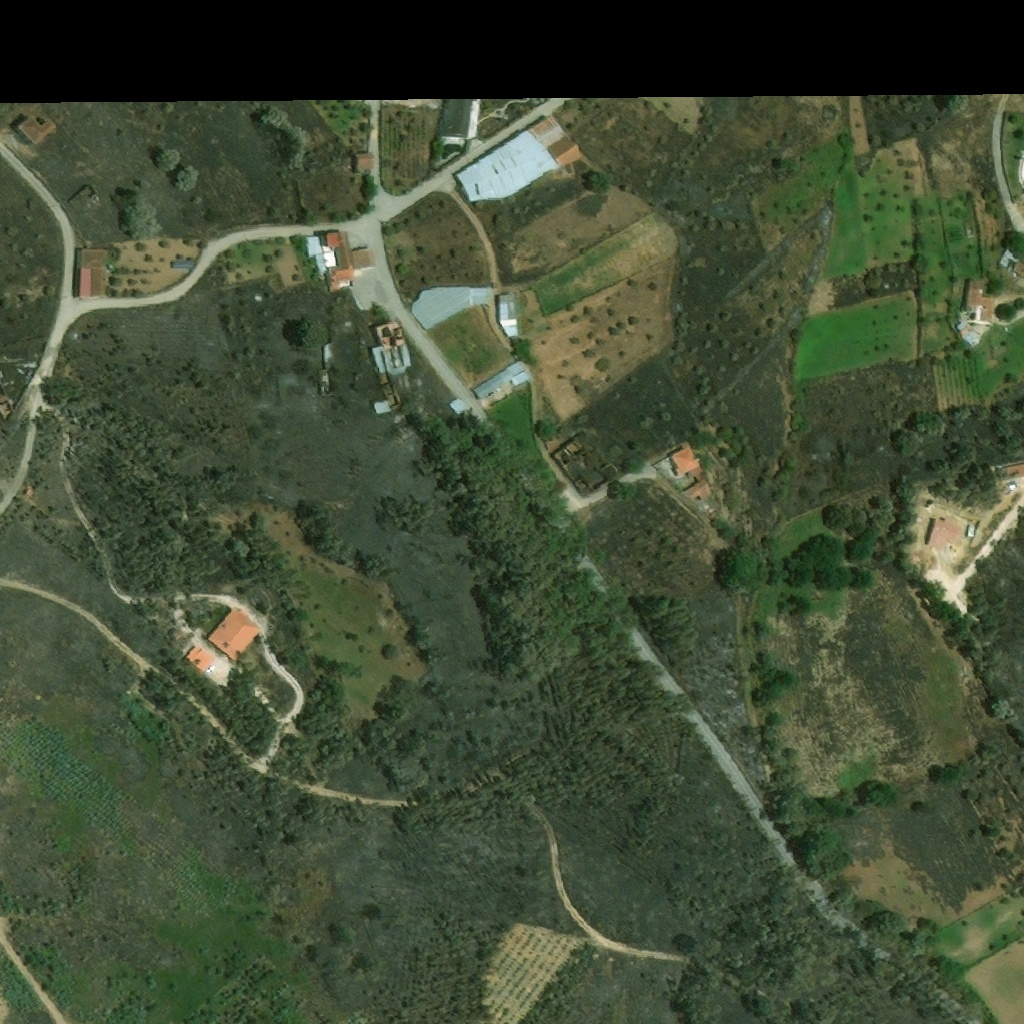0 no-damage: (452, 116, 581, 202), (304, 232, 373, 292), (408, 287, 488, 331), (207, 607, 261, 660), (471, 361, 530, 400), (435, 92, 472, 138), (13, 116, 58, 148), (74, 250, 102, 296), (964, 279, 993, 323), (667, 445, 702, 478), (496, 293, 516, 338), (684, 478, 712, 500), (998, 249, 1019, 272), (351, 153, 374, 172), (1002, 464, 1023, 480), (447, 397, 466, 414), (171, 260, 192, 269), (1013, 259, 1023, 277), (175, 630, 186, 641)
2 major-damage: (318, 369, 332, 394), (321, 341, 330, 361)
3 destroyed: (370, 319, 411, 375), (372, 373, 401, 414), (551, 437, 587, 470), (0, 388, 14, 424), (544, 437, 560, 451)
4 un-classified: (380, 92, 443, 101), (234, 598, 248, 610)
